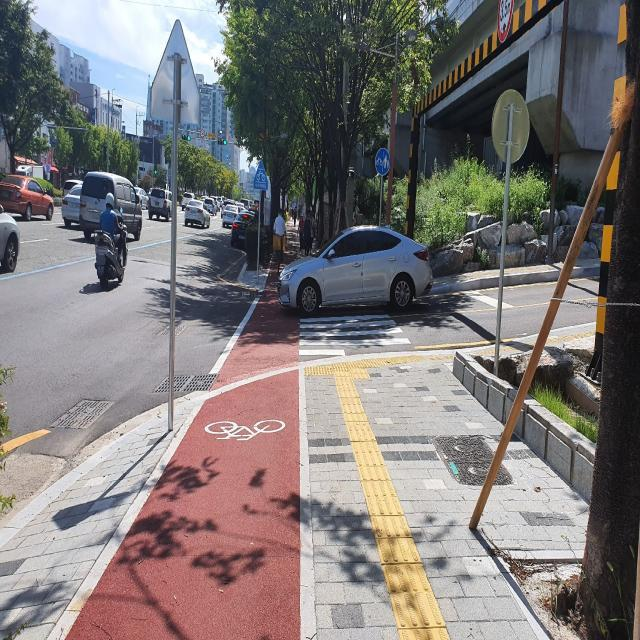횡단보도: (298, 307, 412, 357)
